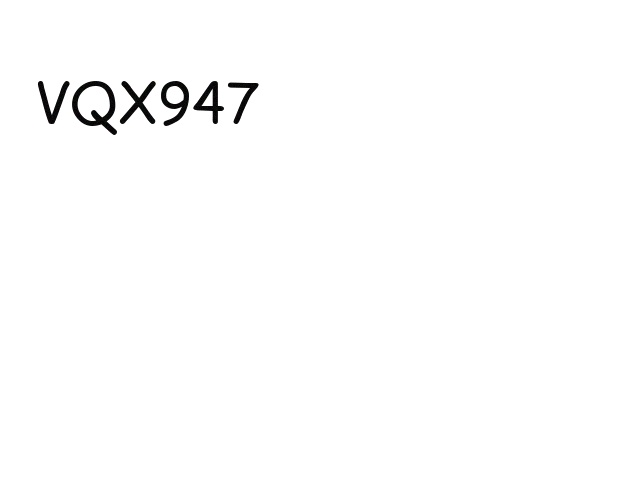OCR_AREA: (30, 77, 264, 139)
